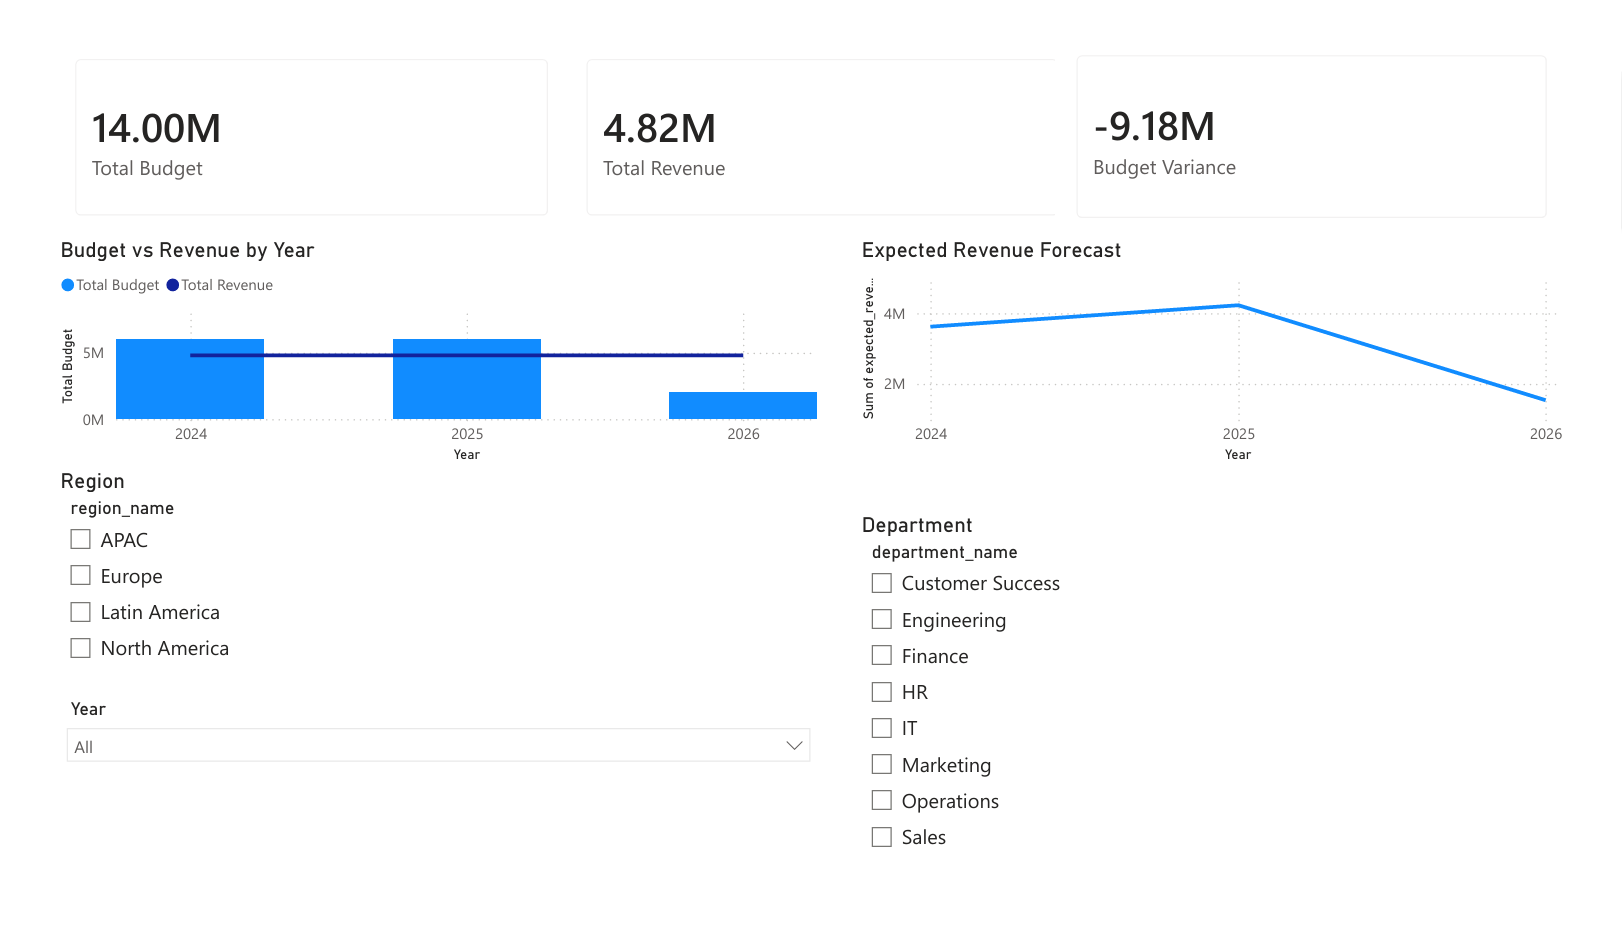

This screenshot's page, from the dashboard's own definition file:
{"tool":"powerbi","page":{"name":"Budget & Forecast","canvas":[1280,720],"ordinal":3},"visuals":[{"type":"cardVisual","fields":{"Data":["cloudcore_fpa budget.Total Budget"]},"box":[25.3,8,411.3,158.6],"z":0},{"type":"cardVisual","fields":{"Data":["cloudcore_fpa budget.Total Revenue"]},"box":[434.3,8,410.2,158.6],"z":1000},{"type":"cardVisual","fields":{"Data":["cloudcore_fpa budget.Budget Variance"]},"box":[826.1,4.6,410.2,164.3],"z":2000},{"type":"lineClusteredColumnComboChart","title":"Budget vs Revenue by Year","fields":{"Category":["cloudcore_fpa budget.budget_month.Variation.Date Hierarchy.Year"],"Y":["cloudcore_fpa budget.Total Budget"],"Y2":["cloudcore_fpa budget.Total Revenue"]},"box":[25.3,166.6,614.7,185],"z":3000},{"type":"lineChart","title":"Expected Revenue Forecast","fields":{"Category":["cloudcore_fpa forecast.forecast_month.Variation.Date Hierarchy.Year"],"Y":["Sum(cloudcore_fpa forecast.expected_revenue)"]},"box":[666.4,166.6,569.9,185],"z":4000},{"type":"slicer","title":"Region","fields":{"Values":["cloudcore_fpa regions.region_name"]},"box":[25.3,351.6,614.7,175.8],"z":6000},{"type":"slicer","title":"Department","fields":{"Values":["cloudcore_fpa departments.department_name"]},"box":[666.4,387.2,569.9,286.1],"z":7000},{"type":"slicer","fields":{"Values":["cloudcore_fpa budget.Year"]},"box":[25.3,532,614.7,188.4],"z":7001}]}

Visuals, with their boxes in screenshot pixels (x1, y1, x2, y2), scaled from the page's 1280x720 canvas onto the 1622x932 screenshot:
cardVisual - cloudcore_fpa budget.Total Budget: bbox(32, 10, 553, 216)
cardVisual - cloudcore_fpa budget.Total Revenue: bbox(550, 10, 1070, 216)
cardVisual - cloudcore_fpa budget.Budget Variance: bbox(1047, 6, 1567, 219)
"Budget vs Revenue by Year" lineClusteredColumnComboChart: bbox(32, 216, 811, 455)
"Expected Revenue Forecast" lineChart: bbox(844, 216, 1567, 455)
"Region" slicer: bbox(32, 455, 811, 683)
"Department" slicer: bbox(844, 501, 1567, 872)
slicer - cloudcore_fpa budget.Year: bbox(32, 689, 811, 931)
